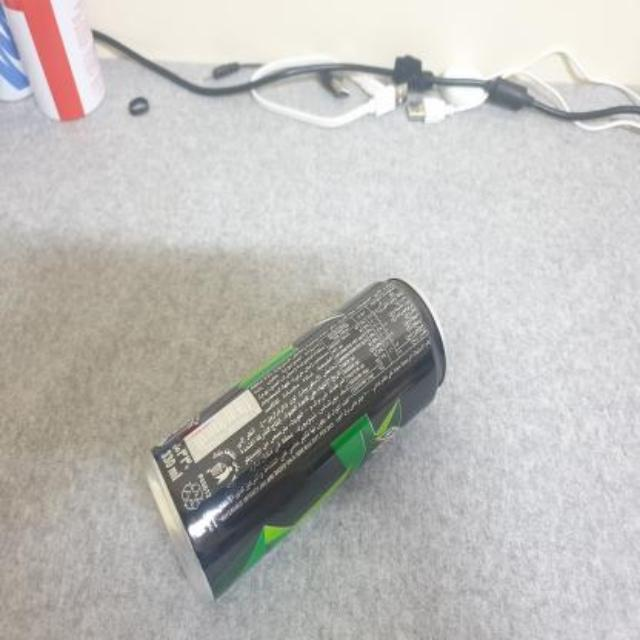metal: (146, 277, 443, 595)
